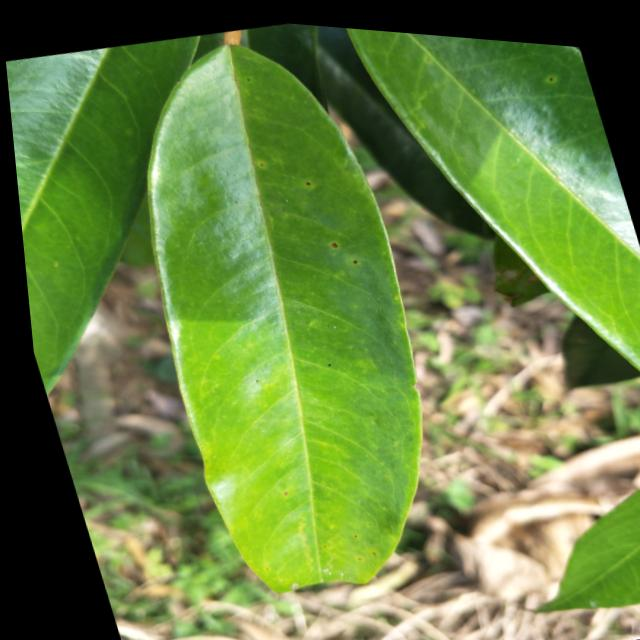Leaf Spot: (298, 215, 364, 276), (232, 142, 292, 185), (285, 162, 330, 194)
